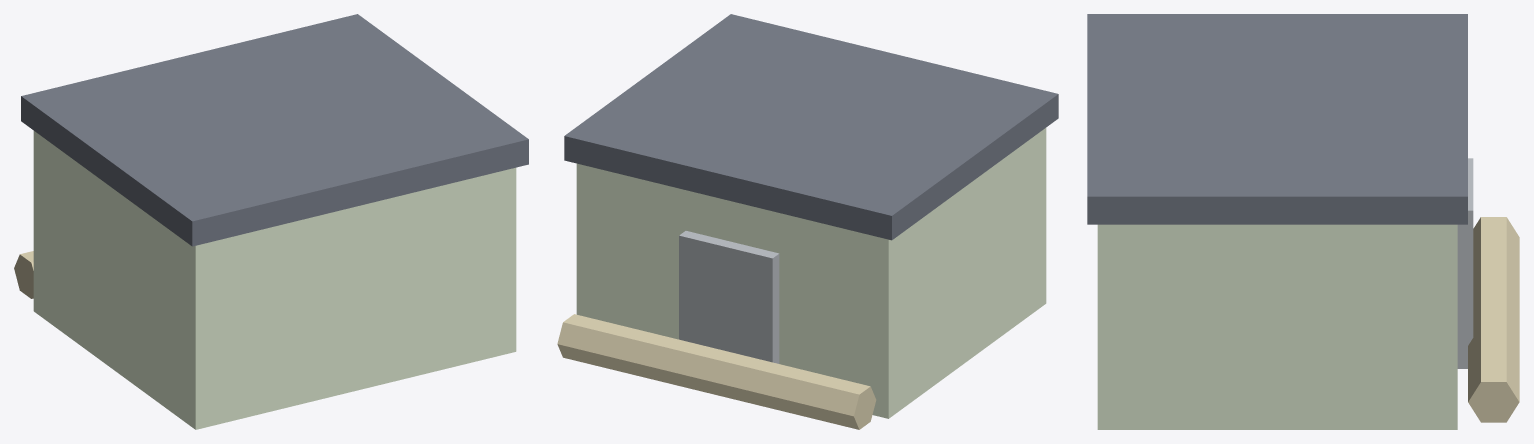
The model's file is disaster_shelter.glb.
The picture shows the model from 3 angles, left to right: view 1: azimuth 30°, elevation 25°; view 2: azimuth 150°, elevation 25°; view 3: azimuth 270°, elevation 25°; orthographic projection. The views are drawn at different scales.
Visible parts, largest first — view 1: disaster_shelter; view 2: disaster_shelter; view 3: disaster_shelter.
Part boxes in pixels (<box>): disaster_shelter: <box>14,14,528,429</box>; disaster_shelter: <box>557,14,1058,429</box>; disaster_shelter: <box>1087,14,1519,429</box>.
Size of the model in its own units: 0.84 by 0.51 by 0.84.
